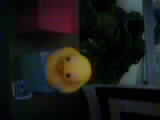duck: (42, 39, 92, 103)
